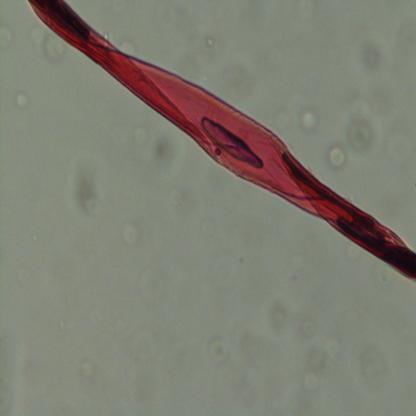Background material: (298, 314, 346, 386), (342, 106, 378, 158), (70, 165, 100, 219), (354, 348, 392, 386), (149, 132, 177, 175), (268, 298, 296, 334), (117, 213, 143, 251), (204, 336, 231, 366), (397, 22, 416, 59), (359, 39, 379, 72), (274, 99, 294, 131), (299, 104, 319, 135), (77, 356, 99, 382), (44, 39, 68, 62), (328, 146, 349, 170), (13, 89, 30, 110), (205, 34, 216, 50)
Cotton: (27, 0, 416, 280)
